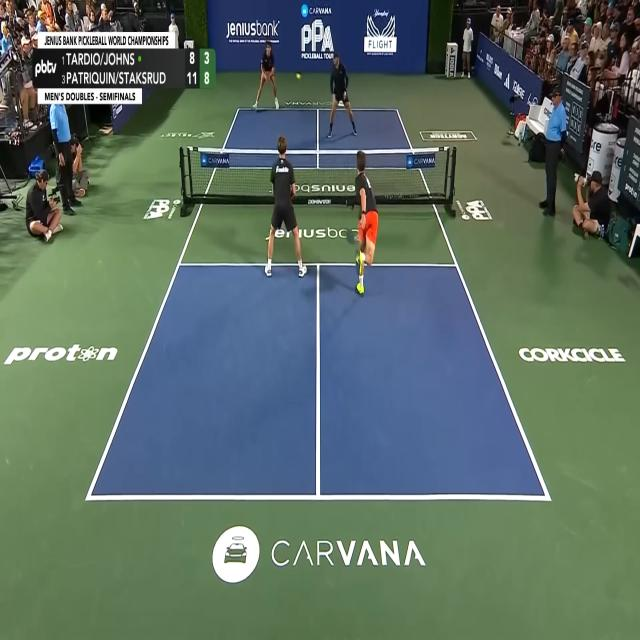ball: (296, 72, 302, 80)
